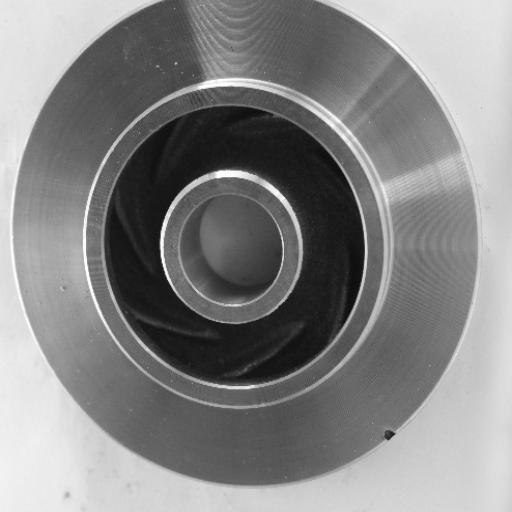crack: (375, 421, 404, 454)
unpolished_casting: (10, 0, 479, 488)
